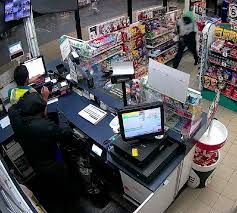gun: (54, 102, 85, 132)
